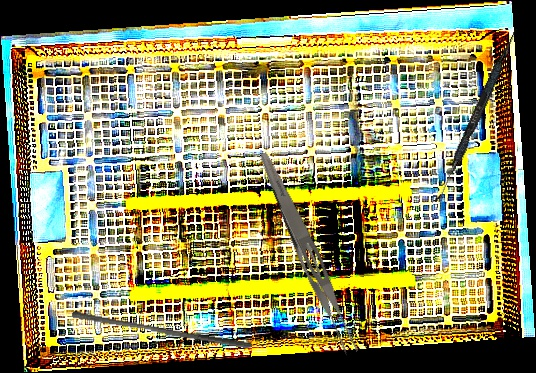Dressing Forceps: (249, 149, 364, 359)
Pusher: (70, 310, 254, 350)
Spatula Surgical: (434, 25, 519, 206)
